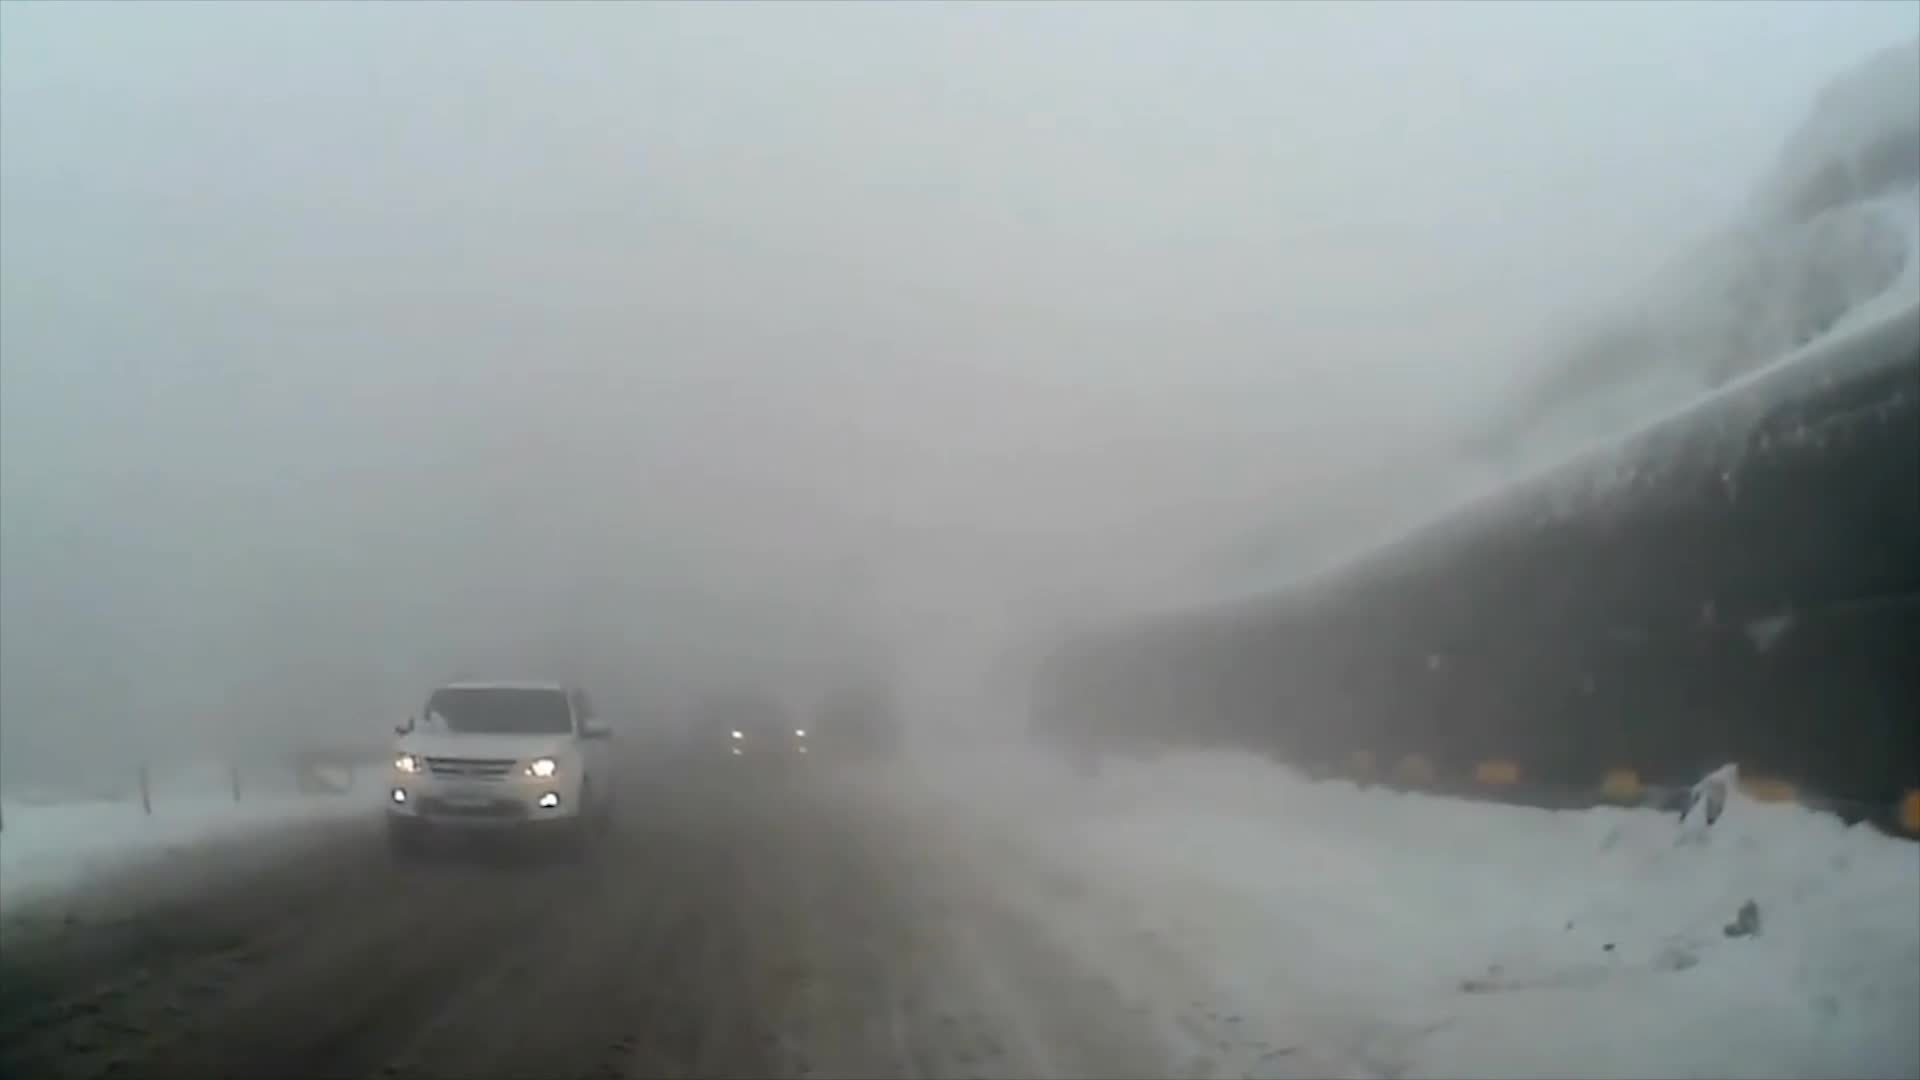vehicle: (380, 674, 618, 858), (687, 692, 811, 787)
